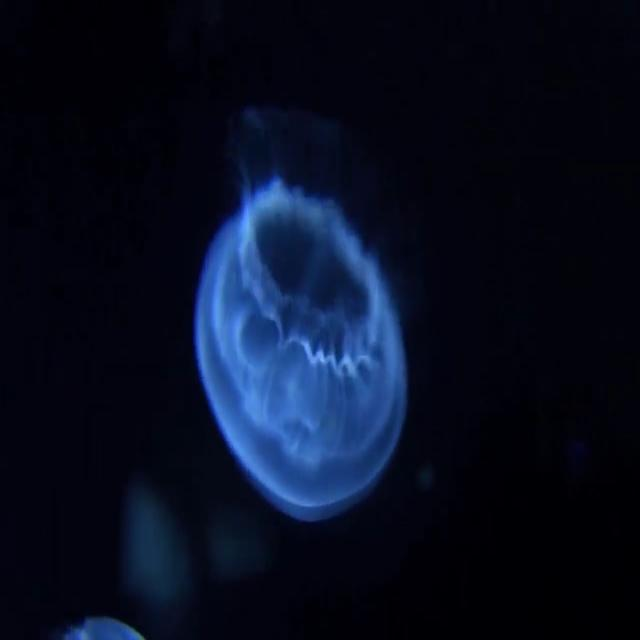Moon-jellyfish: (192, 176, 410, 526)
